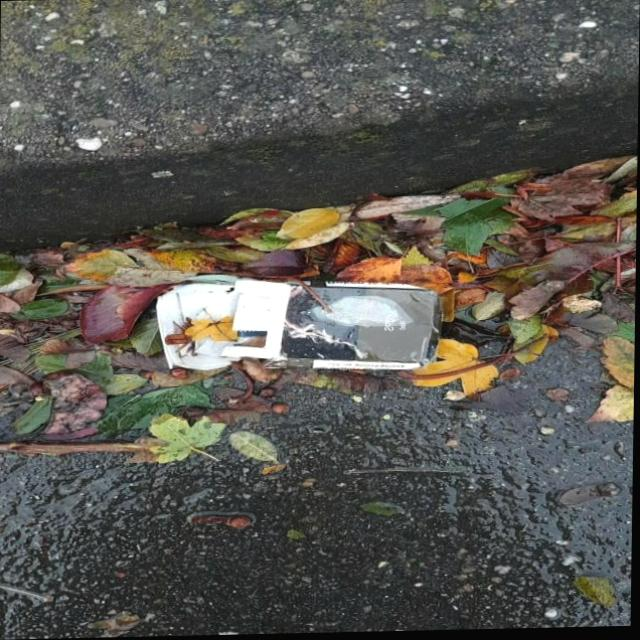Paper: (152, 273, 445, 376)
